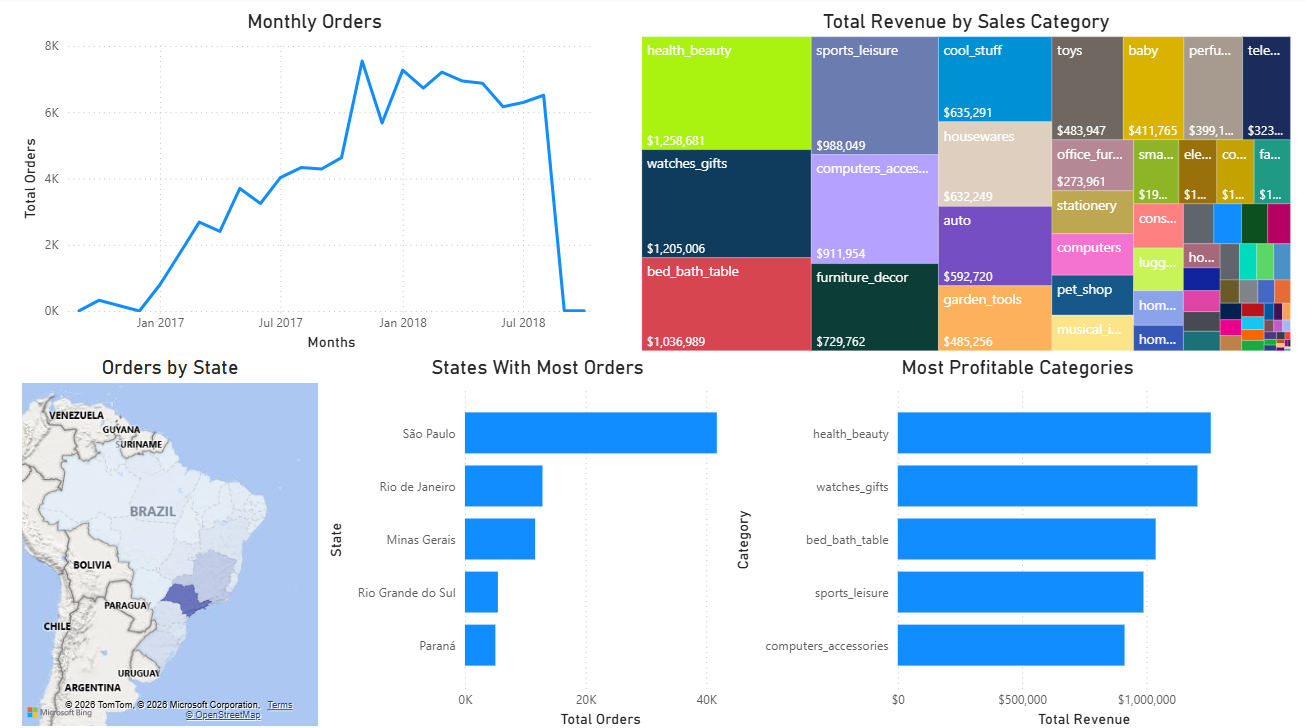

What the dashboard file says about the page in this screenshot:
{"tool":"powerbi","page":{"name":"Demand and Revenue","canvas":[1280,720],"ordinal":0},"visuals":[{"type":"filledMap","title":"Orders by State","fields":{"Category":["analysis orders_by_state.state_name"]},"box":[19.6,352.2,299.6,368.1],"z":1},{"type":"clusteredBarChart","title":"States With Most Orders","fields":{"Category":["analysis orders_by_state.state_name"],"Y":["Sum(analysis orders_by_state.total_orders)"]},"box":[319.2,352.2,419.4,368.1],"z":3},{"type":"lineChart","title":"Monthly Orders","fields":{"Y":["Sum(analysis orders_per_month.total_orders)"],"Category":["analysis orders_per_month.month.Variation.Date Hierarchy.Year","analysis orders_per_month.month.Variation.Date Hierarchy.Quarter","analysis orders_per_month.month.Variation.Date Hierarchy.Month","analysis orders_per_month.month.Variation.Date Hierarchy.Day"]},"box":[19.6,13.5,582.1,338.7],"z":5},{"type":"treemap","title":"Total Revenue by Sales Category","fields":{"Group":["analysis revenue_by_category.category"],"Values":["Sum(analysis revenue_by_category.total_revenue)"],"Details":["analysis revenue_by_category.total_revenue"]},"box":[626.1,13.5,644.4,338.7],"z":6},{"type":"clusteredBarChart","title":"Most Profitable Categories","fields":{"Category":["analysis revenue_by_category.category"],"Y":["Sum(analysis revenue_by_category.total_revenue)"]},"box":[716.6,352.2,563.7,368.1],"z":7}]}

Visuals, with their boxes in screenshot pixels (x1, y1, x2, y2), scaled from the page's 1280x720 canvas onto the 1305x728 screenshot:
"Orders by State" filledMap: left=20, top=356, right=325, bottom=727
"States With Most Orders" clusteredBarChart: left=325, top=356, right=753, bottom=727
"Monthly Orders" lineChart: left=20, top=14, right=613, bottom=356
"Total Revenue by Sales Category" treemap: left=638, top=14, right=1295, bottom=356
"Most Profitable Categories" clusteredBarChart: left=731, top=356, right=1304, bottom=727
